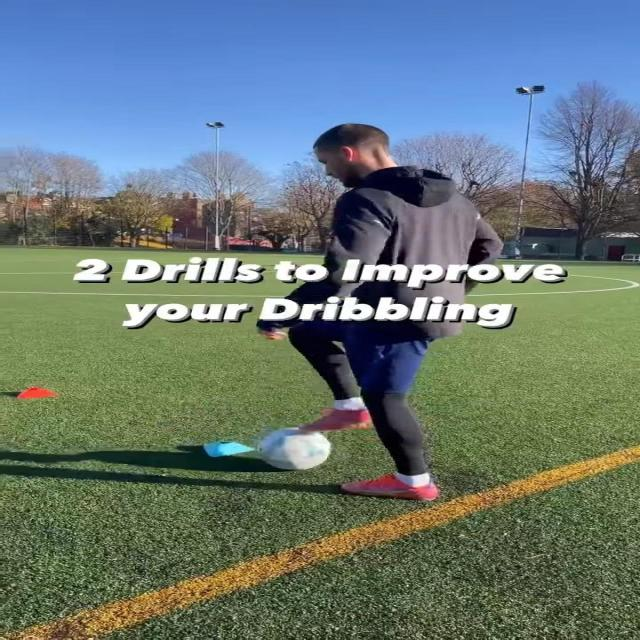Soccer Ball: (256, 426, 333, 472)
